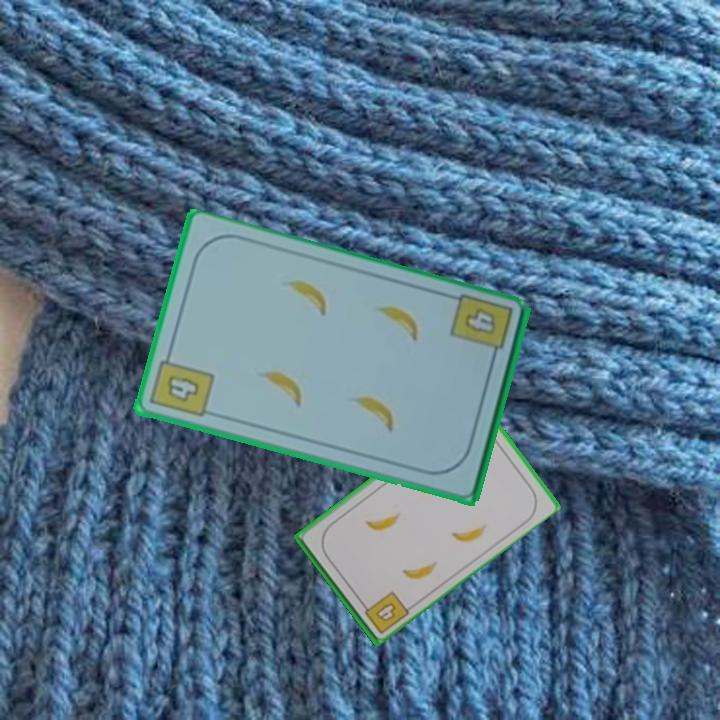4b: (146, 347, 217, 421), (447, 291, 515, 367), (357, 587, 411, 637)
